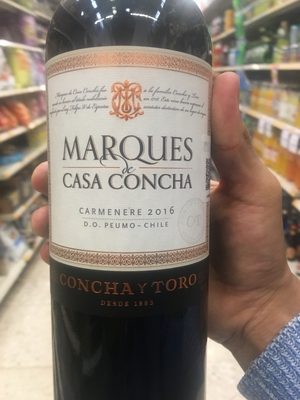marques de casa concha carmenere: (39, 16, 220, 400)
